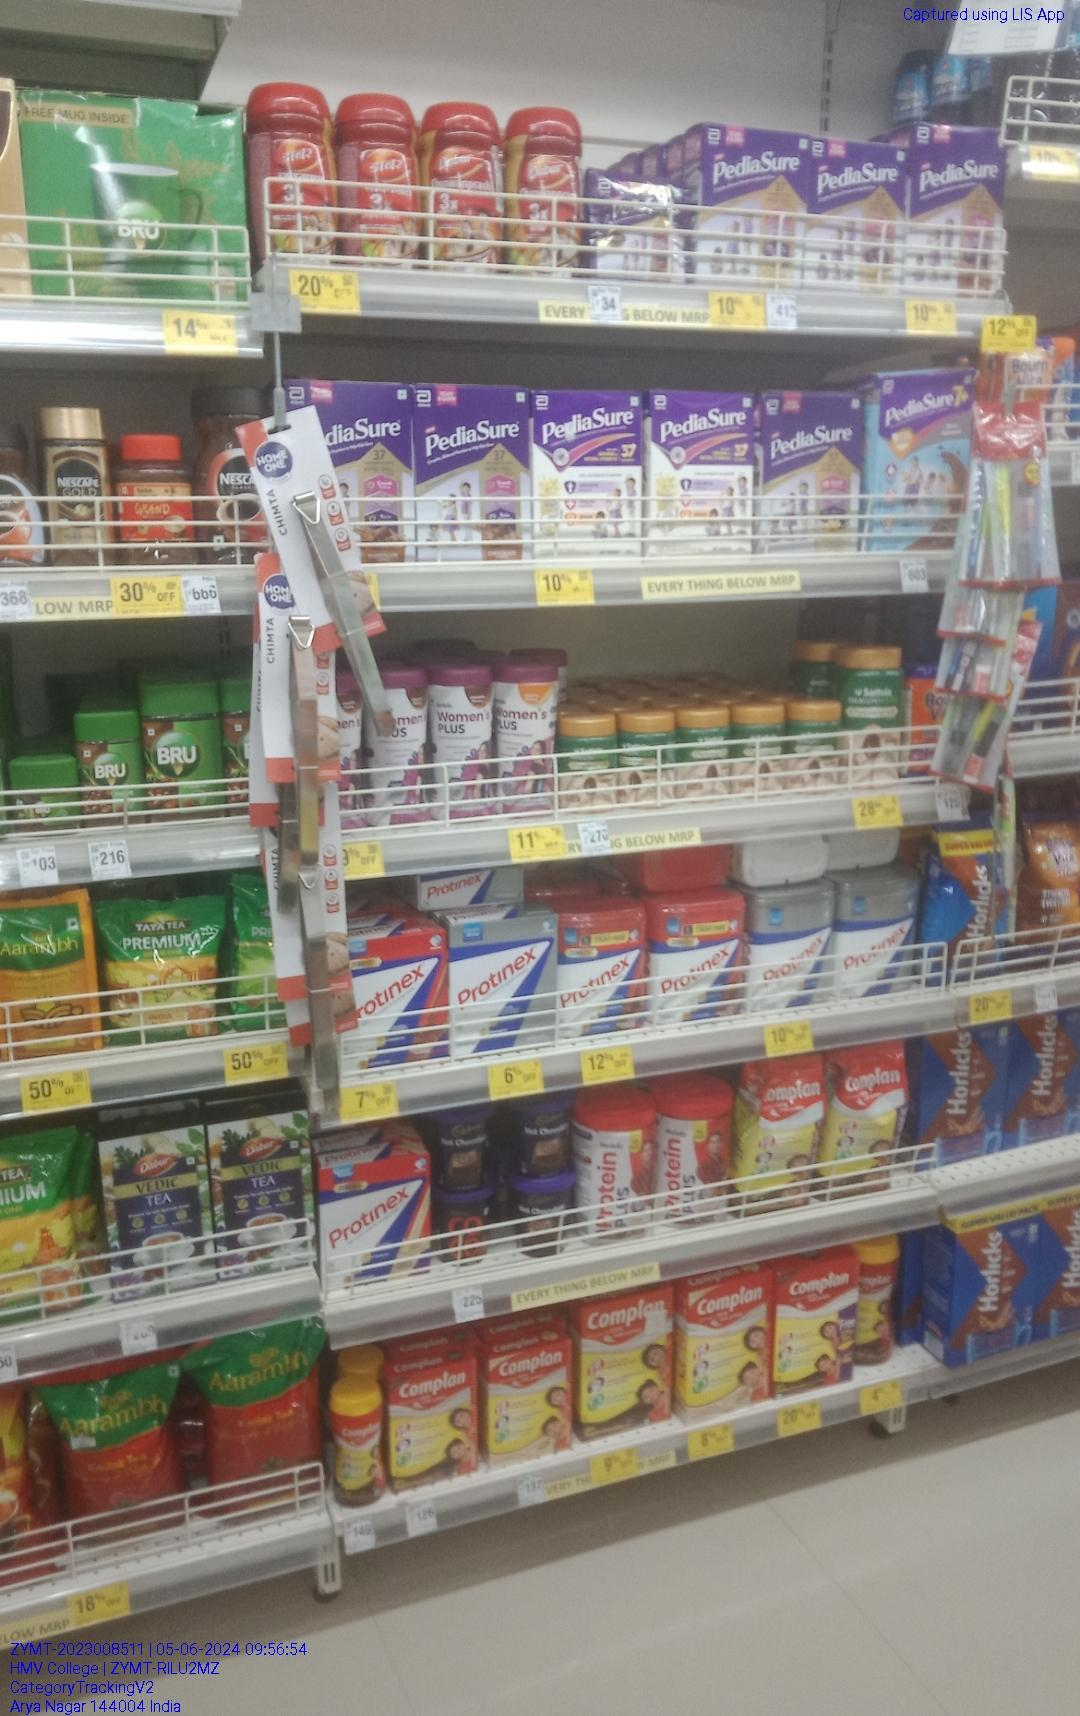COMPLAN_CHOCOLATE_200_GMS_PACK: (330, 1381, 386, 1506)
COMPLAN_CHOCOLATE_500_GMS_JAR: (859, 1242, 900, 1366)
COMPLAN_KESAR_BADAM_200_GMS_PACK: (490, 1339, 571, 1470)
PEDIASURE_CHOCOLATE_500_G_PACK: (286, 382, 407, 564), (414, 377, 531, 561), (910, 119, 1005, 297)
PEDIASURE_VANILLA_500_G_PACK: (694, 126, 804, 282), (763, 391, 860, 556), (810, 137, 905, 296)
PROTINEX_CHOCOLATE_400_G_JAR: (654, 896, 743, 1022), (562, 908, 646, 1035)
PROTINEX_ORIGINAL_400_G_JAR: (748, 887, 836, 1010), (841, 876, 918, 996)
